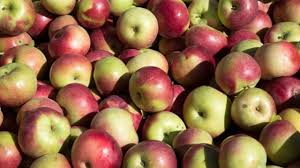apple: (17, 109, 69, 156), (185, 89, 235, 133), (169, 44, 220, 86), (94, 110, 148, 149), (128, 68, 179, 109), (232, 86, 280, 127), (55, 85, 104, 124), (217, 52, 262, 93), (144, 1, 192, 36), (5, 45, 49, 83), (74, 129, 118, 167), (142, 105, 187, 141), (123, 140, 180, 168), (219, 135, 270, 166), (51, 56, 93, 93), (253, 43, 299, 76), (259, 121, 300, 158), (3, 63, 38, 104), (54, 21, 92, 55), (186, 24, 228, 54), (120, 9, 155, 44), (218, 2, 261, 30), (95, 60, 130, 93)
